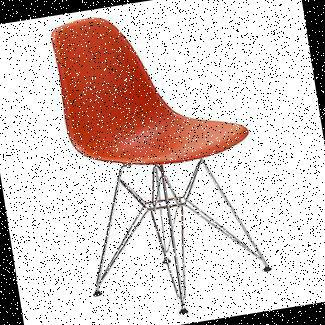Silla: (35, 0, 278, 324)
